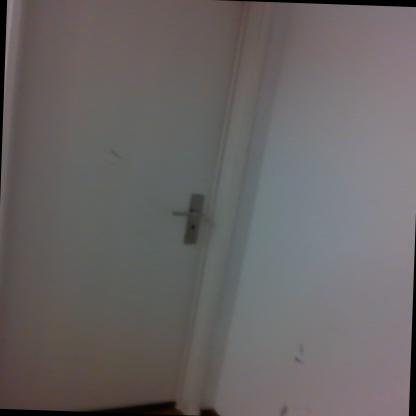closed: (0, 0, 286, 415)
